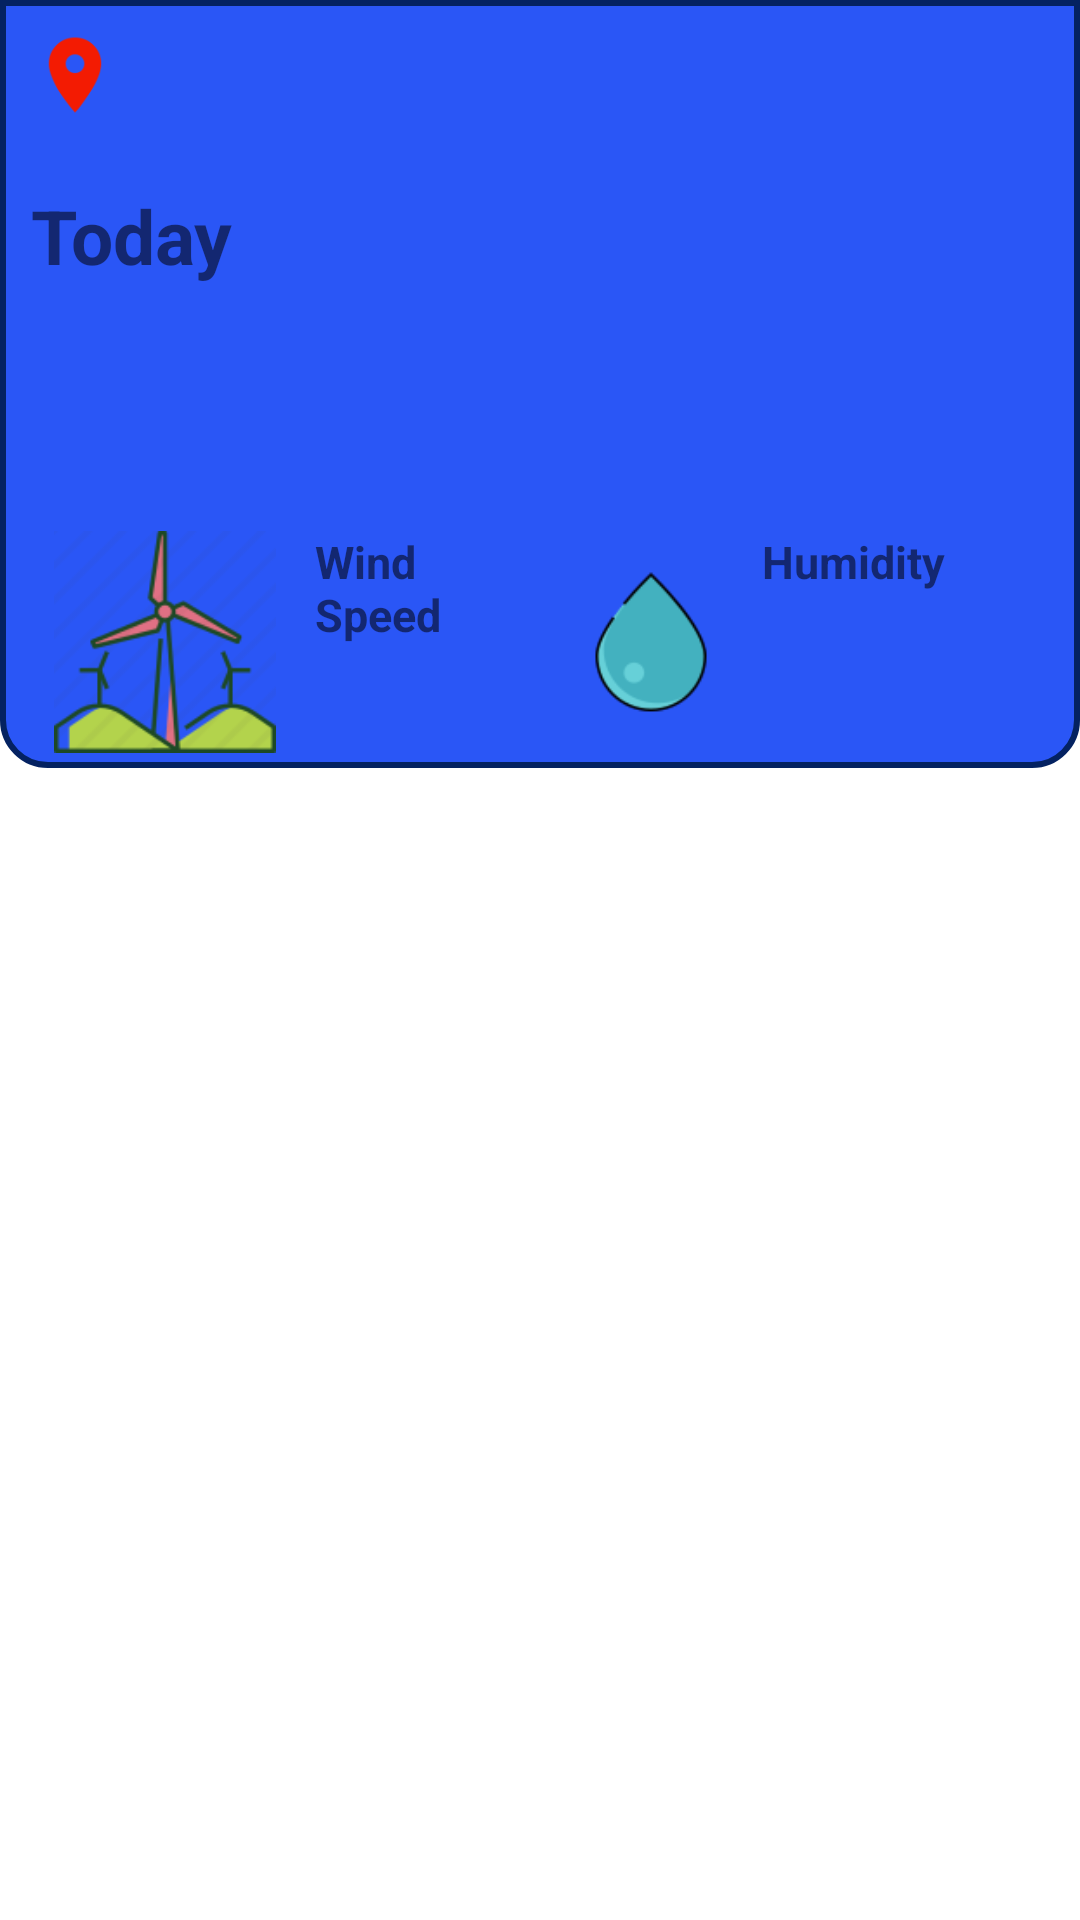

Where icons sit on this 1080 × 1920 app screen, as [left=x1, top=y1, right=x2, bottom=y2]:
location on: [left=48, top=37, right=102, bottom=113]
wind turbine: [left=54, top=531, right=276, bottom=753]
